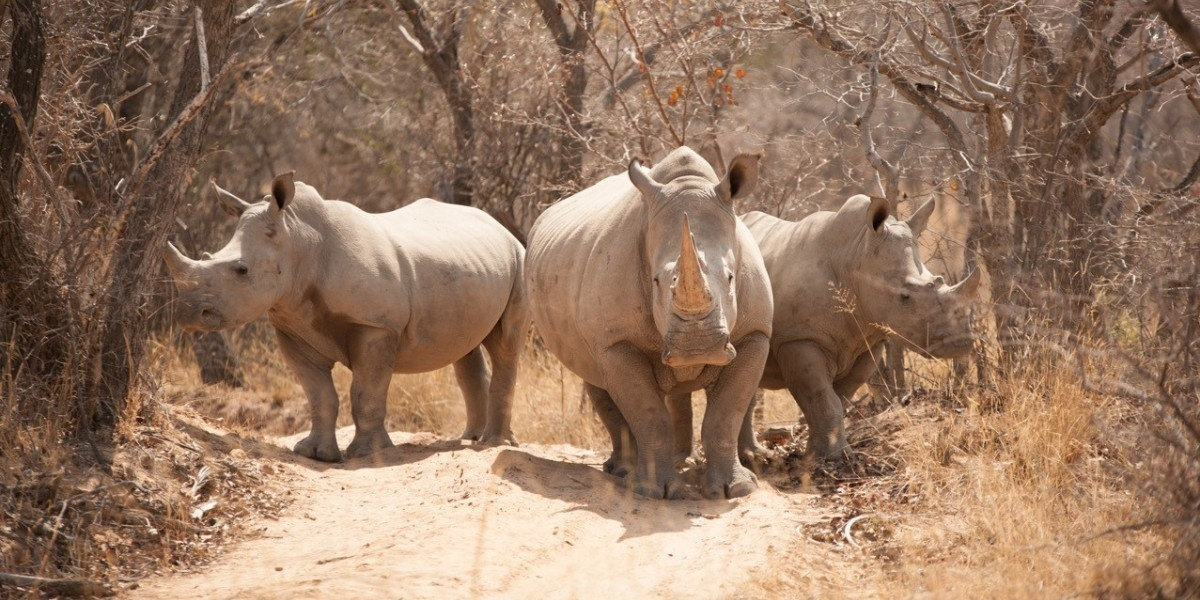rhino: (157, 168, 532, 461), (528, 143, 774, 495), (742, 189, 977, 470)
